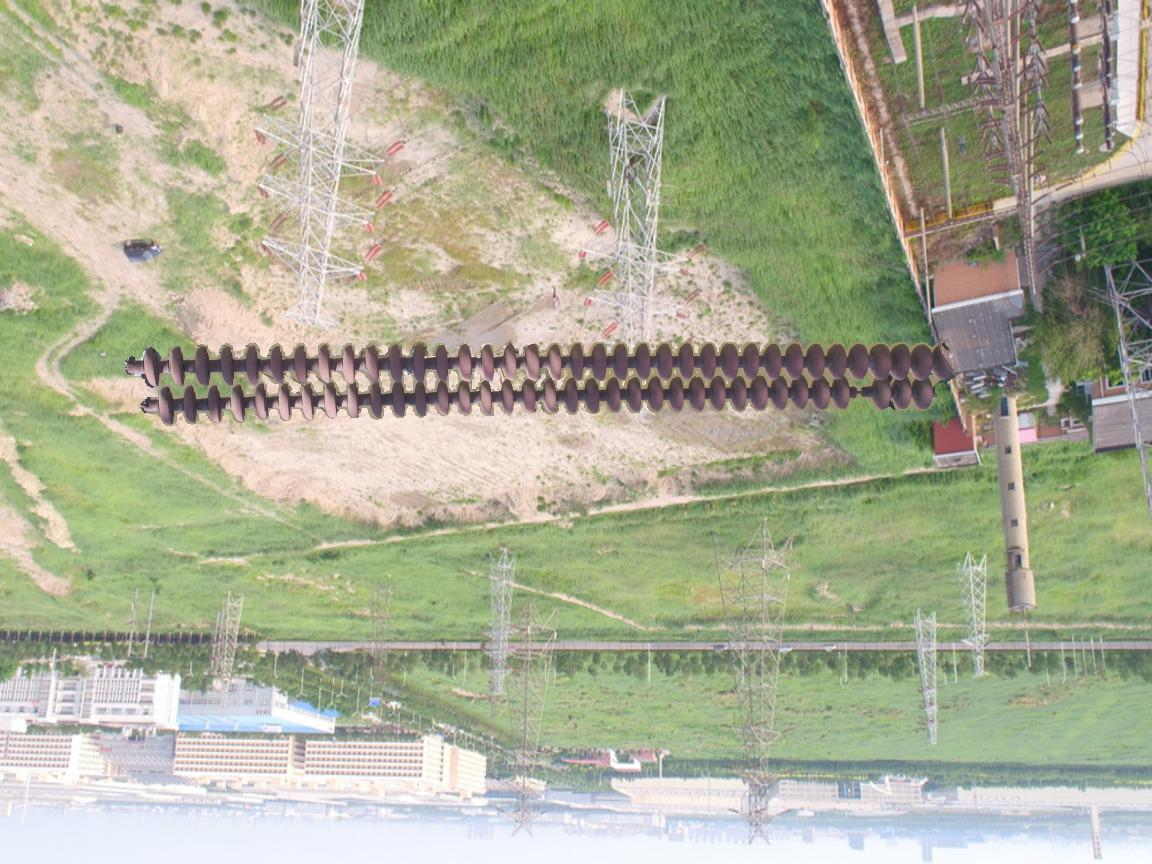insulator: (135, 333, 960, 433)
insulator_stringdrop: (829, 373, 895, 413)
